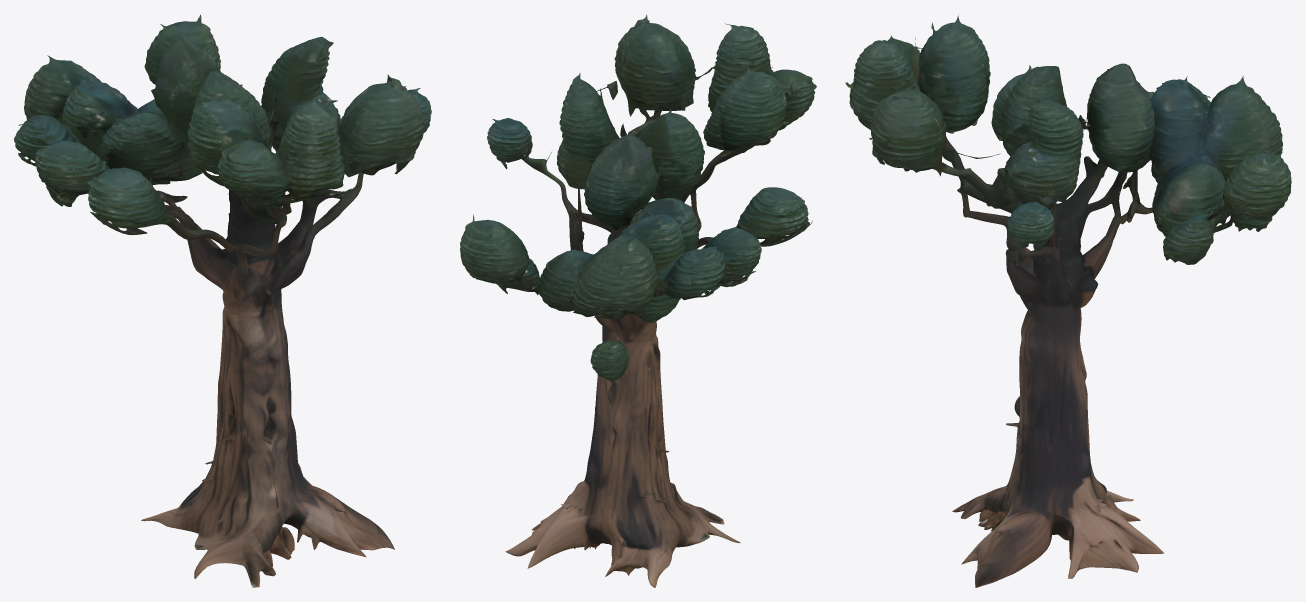
File: real_tree.glb
3 renders of one model, left to right at view 1: azimuth 30°, elevation 25°; view 2: azimuth 150°, elevation 25°; view 3: azimuth 270°, elevation 25°, orthographic. The views are drawn at different scales.
Visible parts, largest first — view 1: model; view 2: model; view 3: model.
Part boxes in pixels (x1,y1,x2,y2): model: (14, 14, 431, 587); model: (460, 14, 816, 587); model: (845, 14, 1291, 587).
Size of the model in its own units: 1.31 by 1.89 by 1.56.
1 material, 1 textured.
